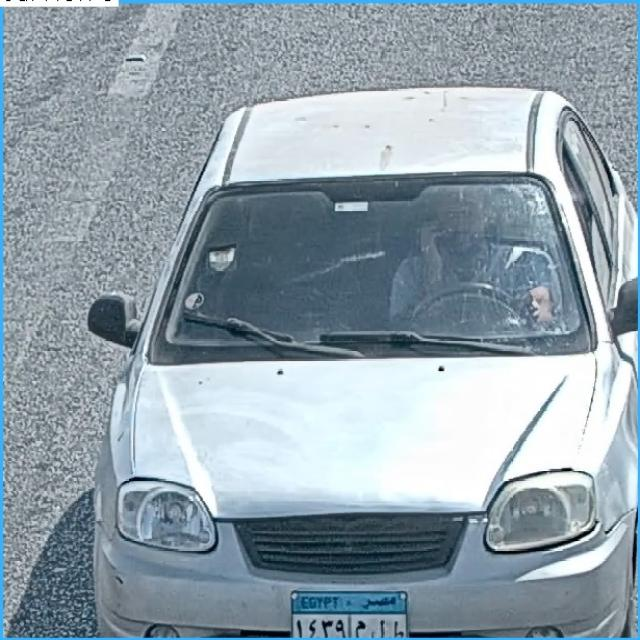windshield: (144, 185, 595, 359)
